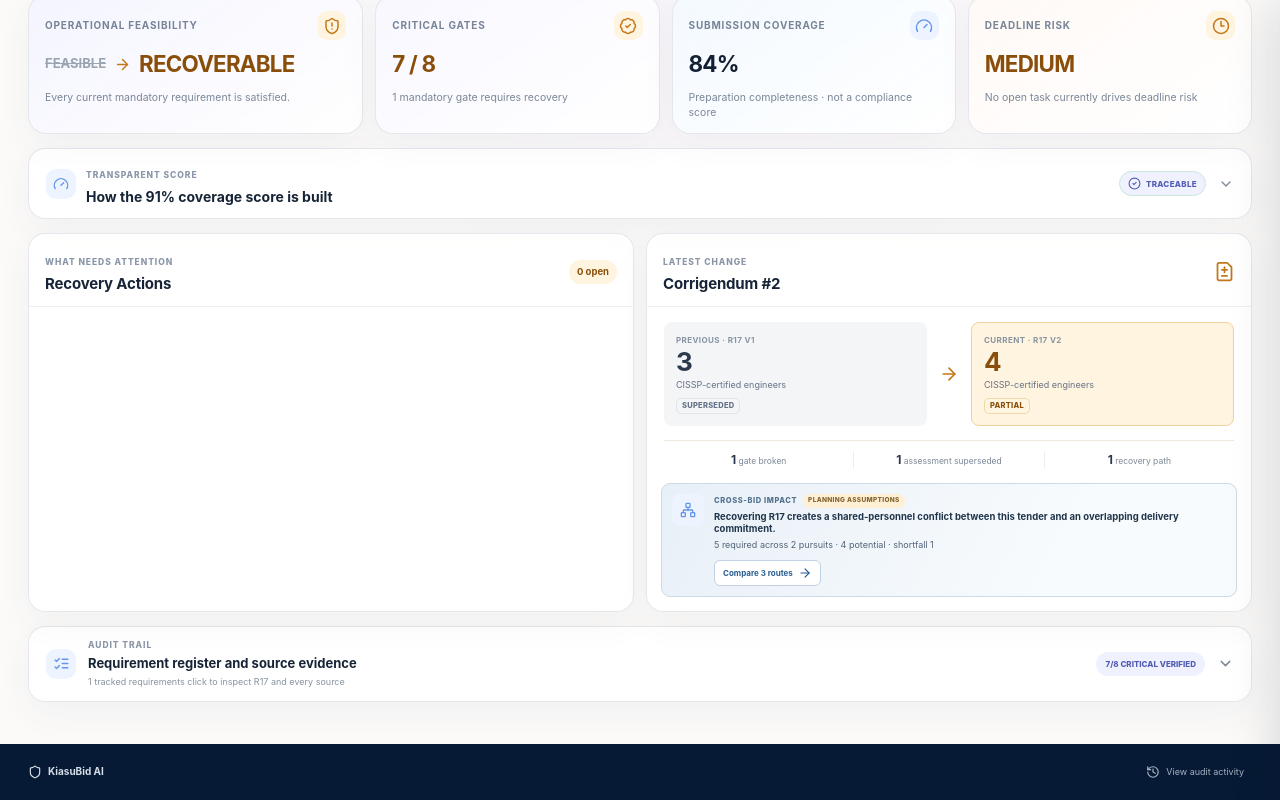
Test: Bid Control Room › reveals a simulation-only portfolio collision after the R17 change
This screenshot has width=1280, height=800.
(page scrolled)
Expected: the text "Cross-bid impact" is shown, left=714, top=496, right=797, bottom=505
Expected: the text "5 required across 2 pursuits · 4 potential · shortfall 1" is shown, left=714, top=539, right=934, bottom=550
Click the button "Compare 3 routes": (767,573) left=714, top=560, right=821, bottom=586
(page scrolled)
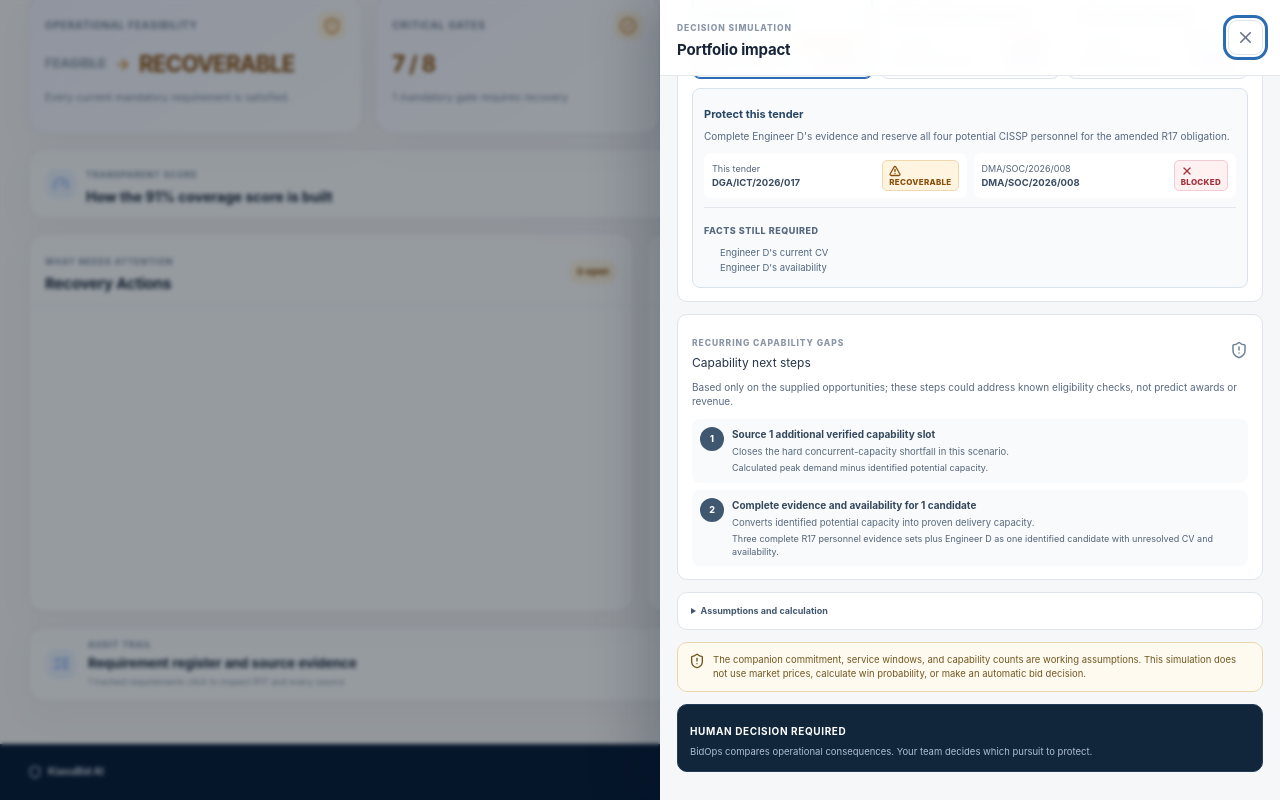
Expected: the dialog "Portfolio impact" is shown, left=660, top=0, right=1279, bottom=799
Expected: the text "does not use market prices, calculate win probability" is shown, left=713, top=654, right=1236, bottom=679
